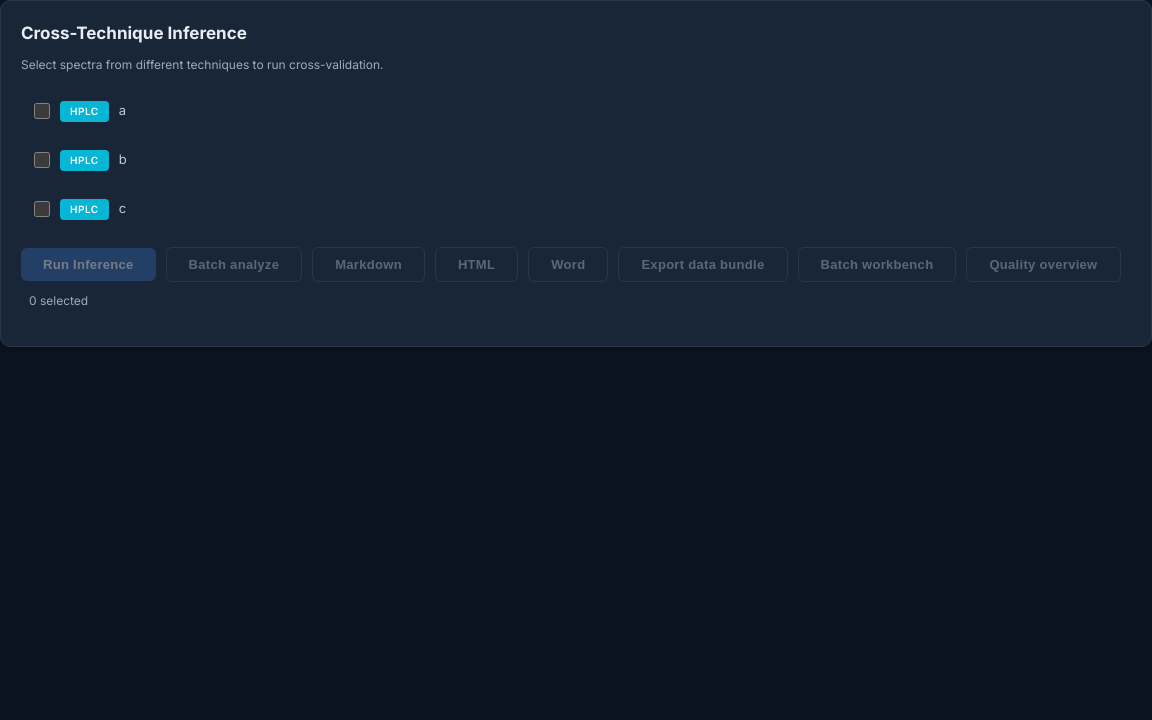
Test: hides completed results immediately after selection changes
Click the checkbox labelled "HPLC a".
click(42, 111)  # box [34,103,50,119]
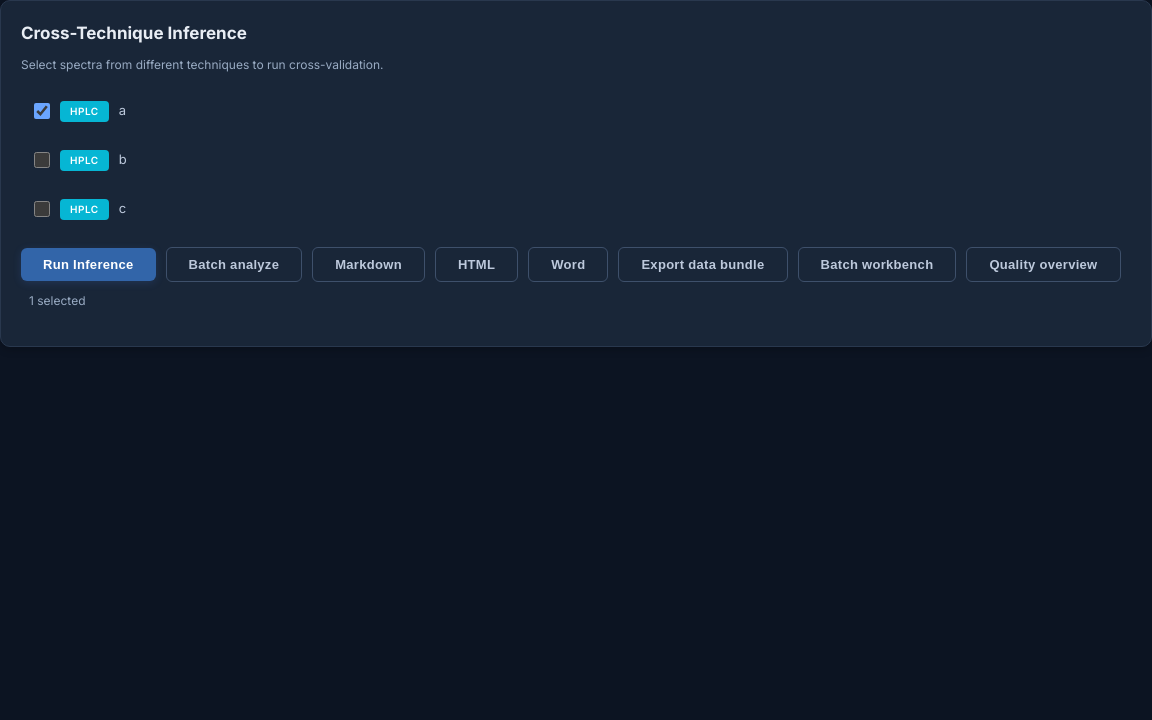
Click the checkbox labelled "HPLC b".
click(42, 160)  # box [34,152,50,168]
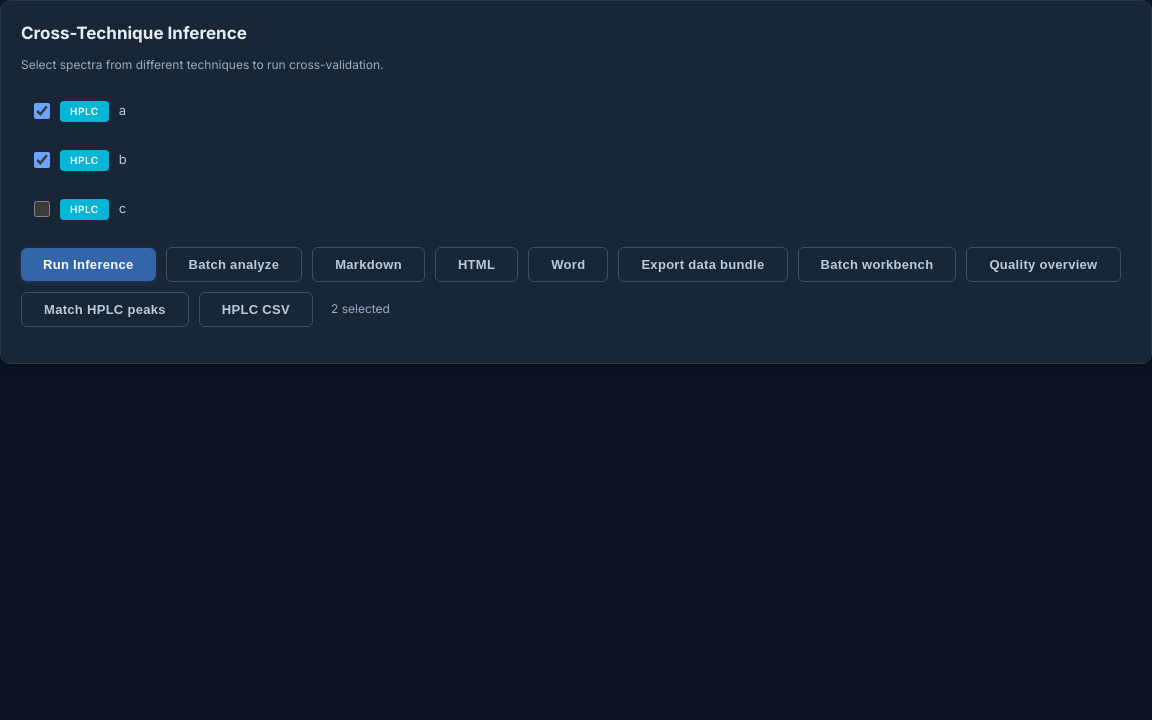
Click the button "Run Inference".
click(88, 264)  # box [21,248,156,281]
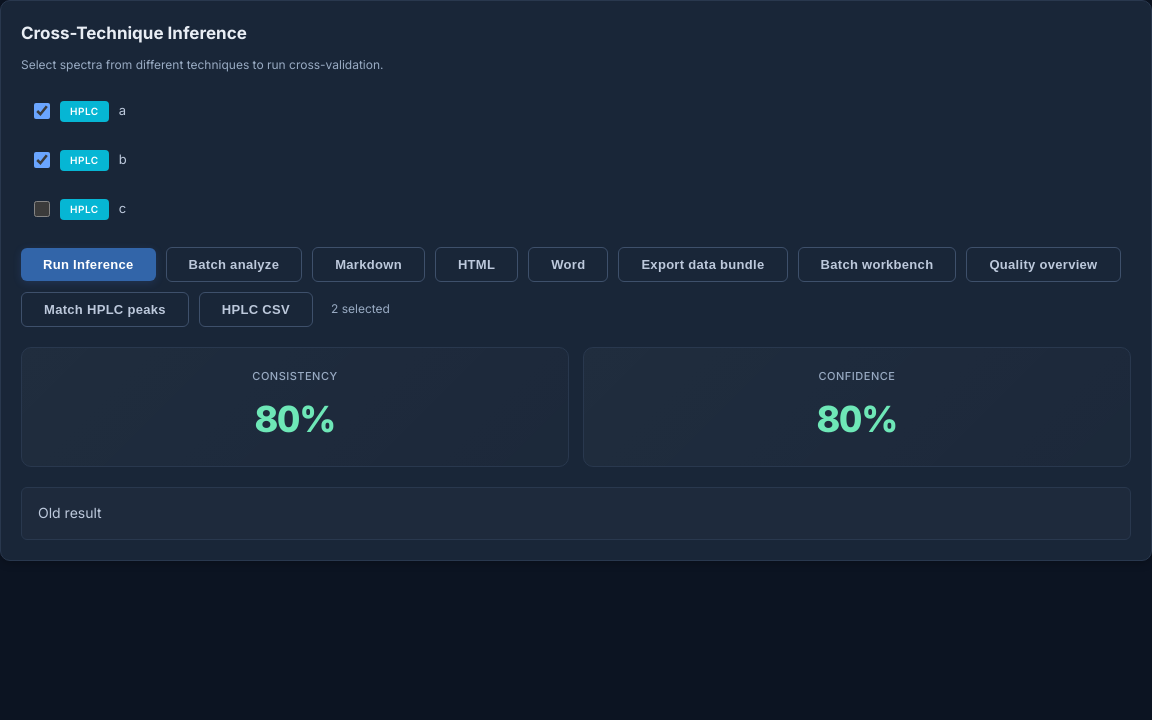
Click the checkbox labelled "HPLC b".
click(42, 160)  # box [34,152,50,168]
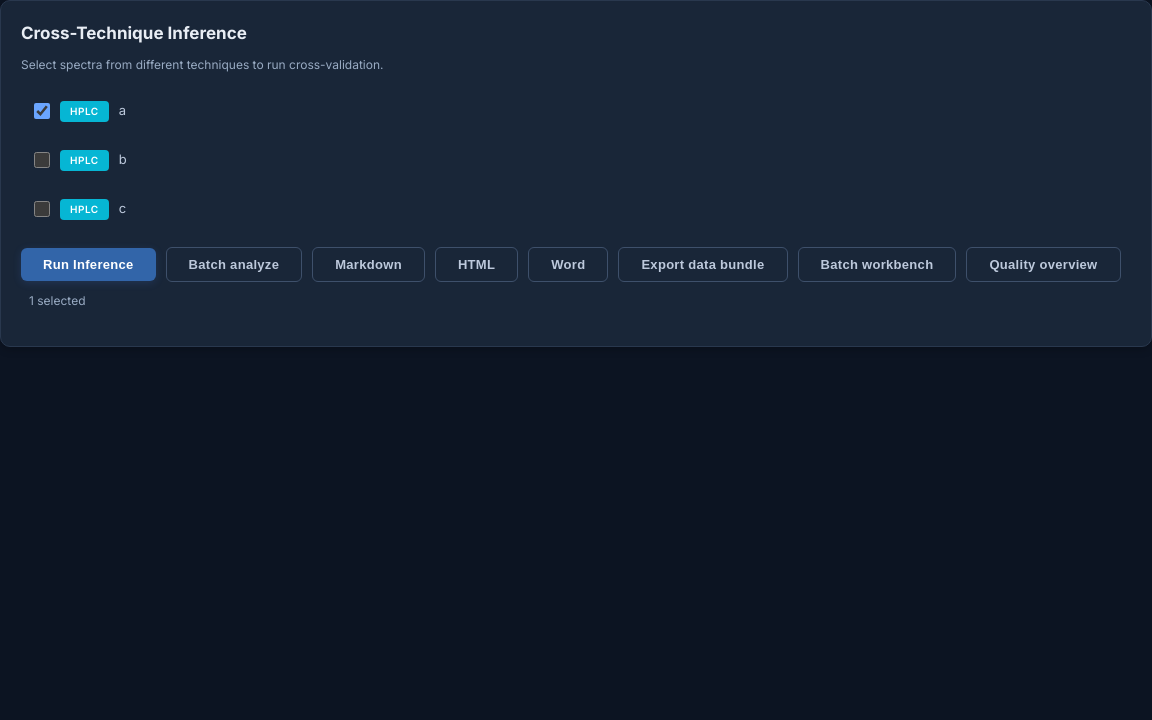
Now the text "Old result" is not shown
